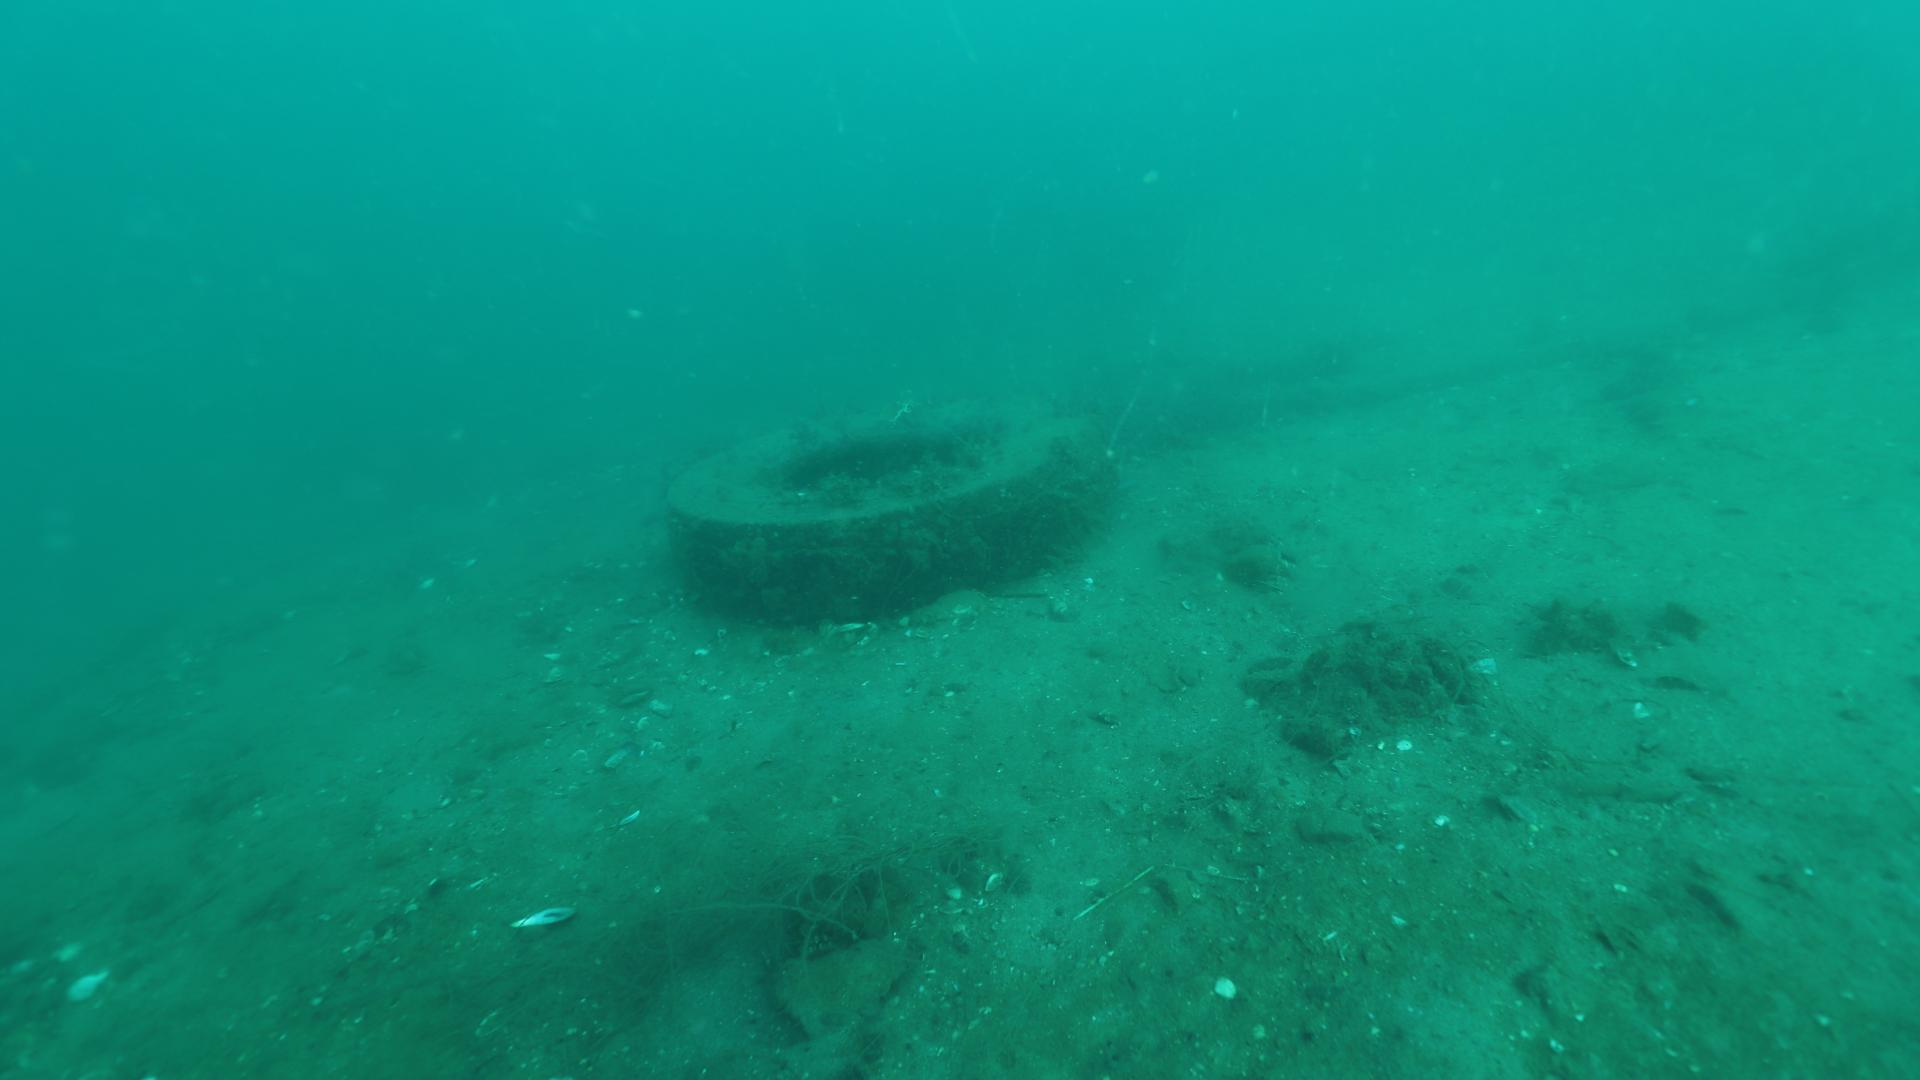tire: (666, 392, 1106, 622)
